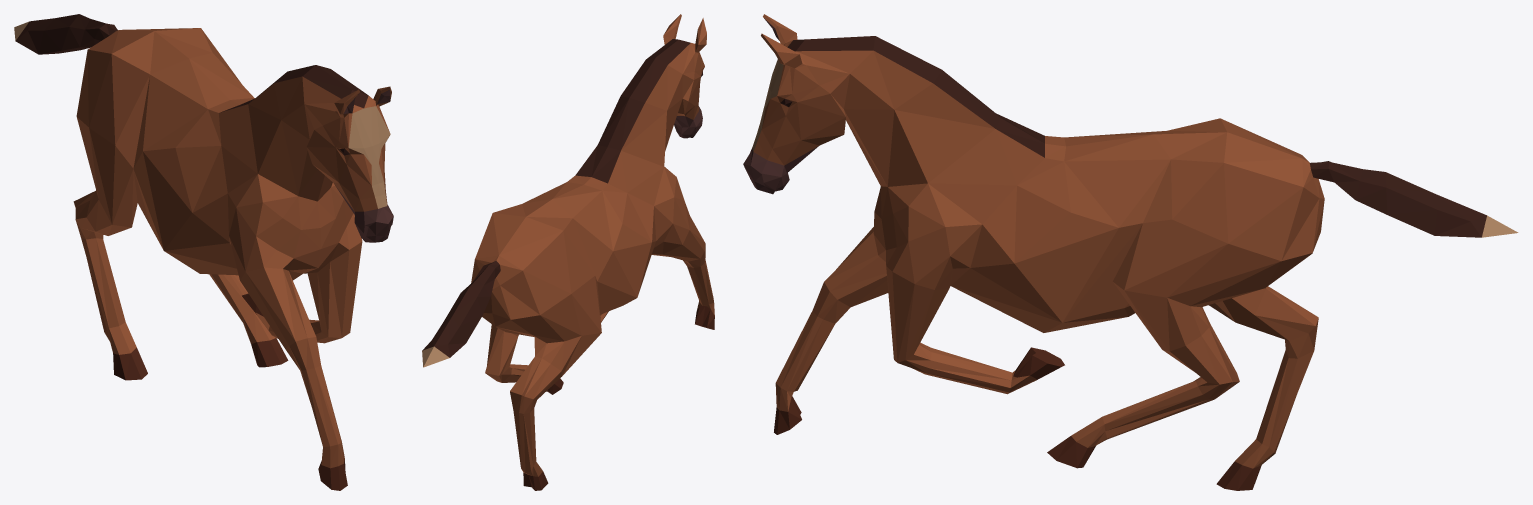
Rendered from Horse.glb.
3 renders of one model, left to right at view 1: azimuth 30°, elevation 25°; view 2: azimuth 150°, elevation 25°; view 3: azimuth 270°, elevation 25°, orthographic. The views are drawn at different scales.
Parts seen in each view (by area): view 1: mesh_0; view 2: mesh_0; view 3: mesh_0.
Part boxes in pixels (x1,y1,x2,y2): mesh_0: (14,14,393,490); mesh_0: (422,14,714,490); mesh_0: (743,14,1518,490).
Size of the model in its own units: 63.6 by 188 by 278.
